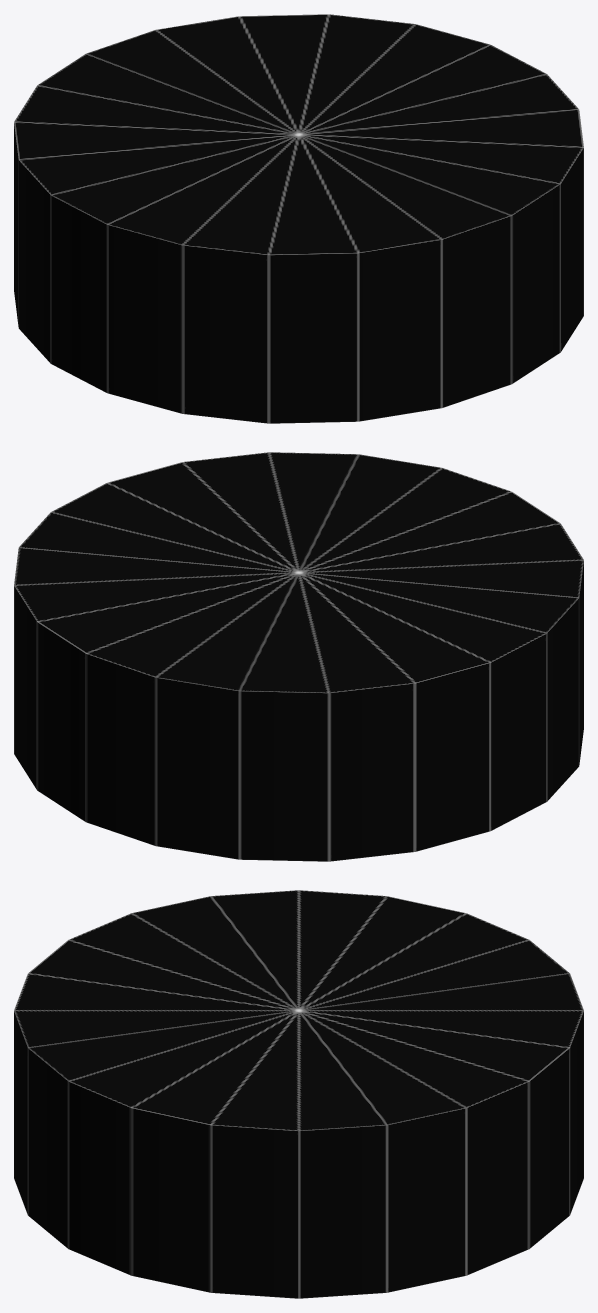
Rendered from Soup.fbx.
3 views of the same model, one above another, from view 1: azimuth 30°, elevation 25°; view 2: azimuth 150°, elevation 25°; view 3: azimuth 270°, elevation 25° (orthographic).
Parts seen in each view (by area): view 1: pCylinder8; view 2: pCylinder8; view 3: pCylinder8.
Boxes of the visible parts, x1=… form: pCylinder8: x1=14, y1=14, x2=583, y2=423; pCylinder8: x1=14, y1=452, x2=583, y2=861; pCylinder8: x1=14, y1=890, x2=583, y2=1298.
Size of the model in its own units: 14.72 by 4.78 by 14.72.
